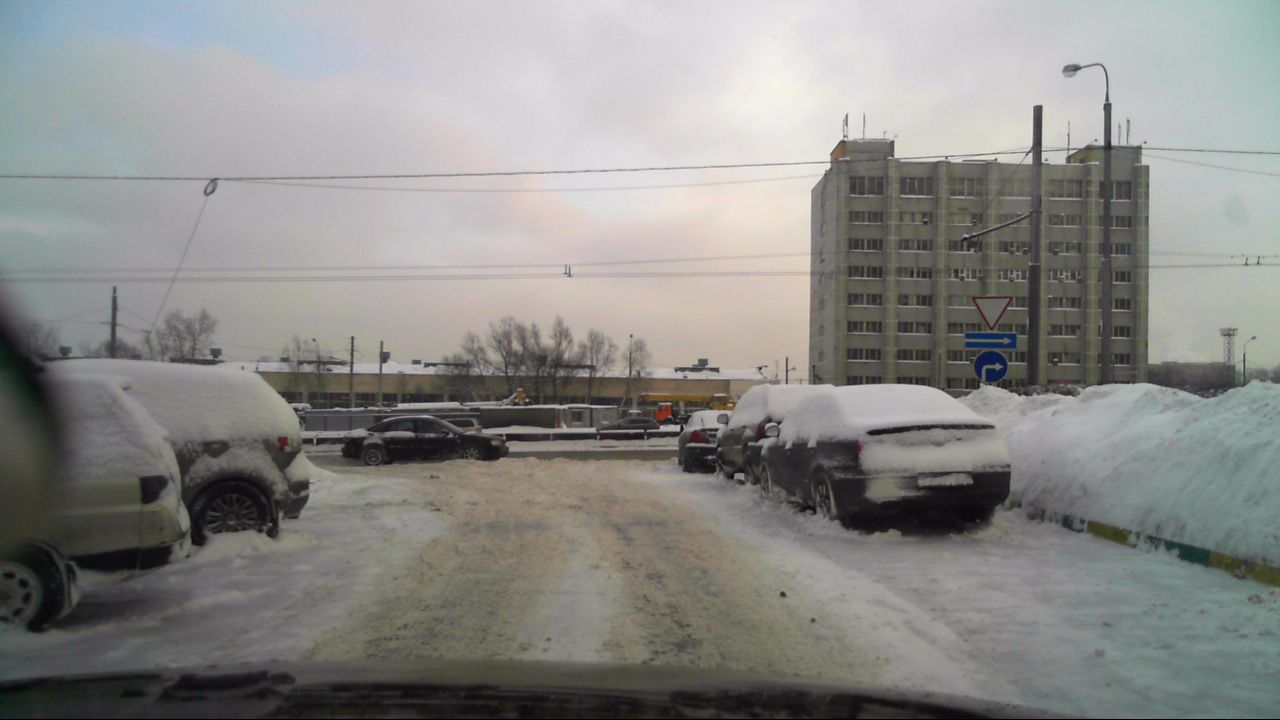One-Way Traffic: (964, 332, 1017, 350)
